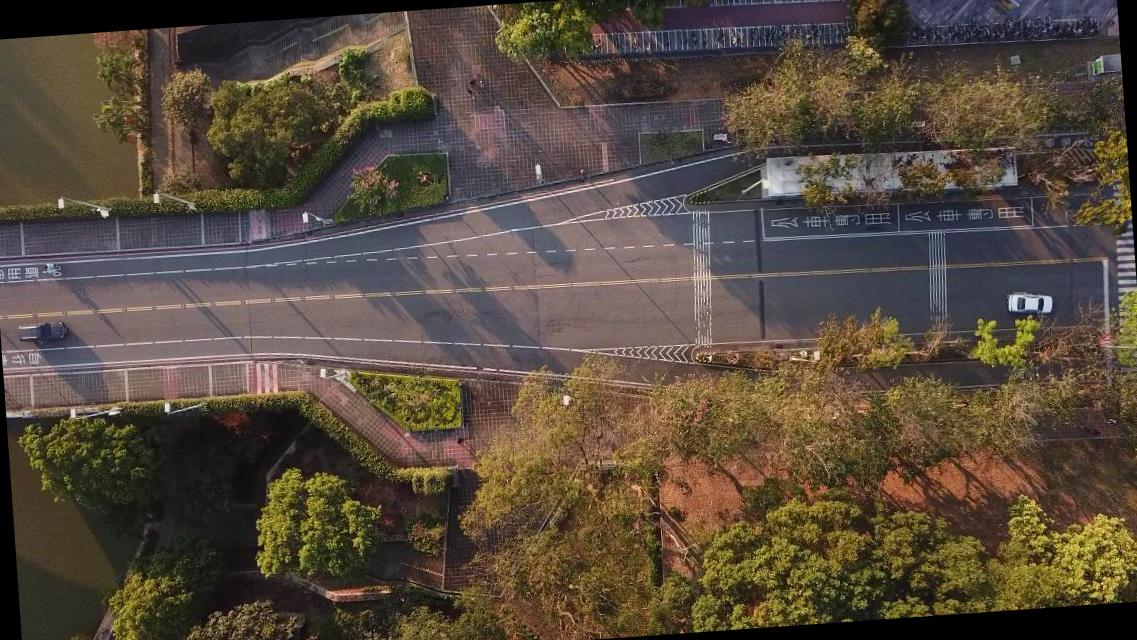vehicle: (1008, 290, 1052, 316)
